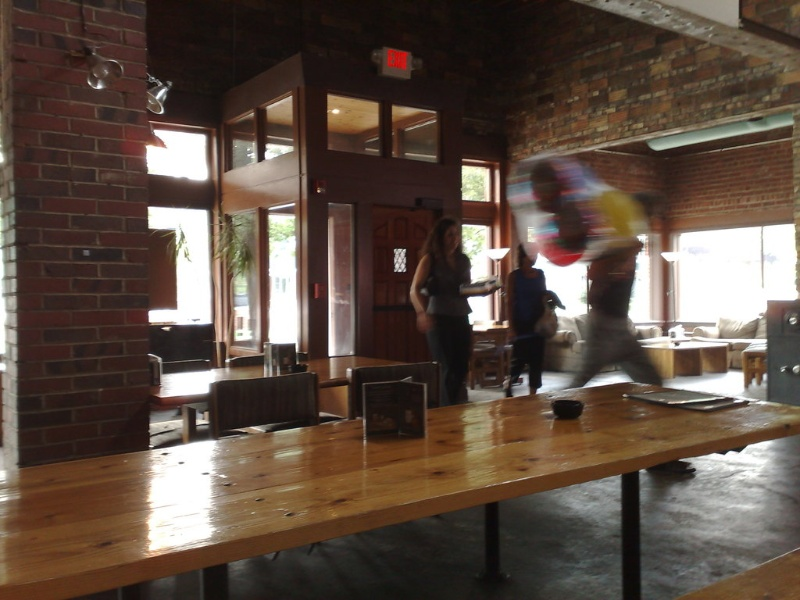dining table: (7, 377, 800, 585)
